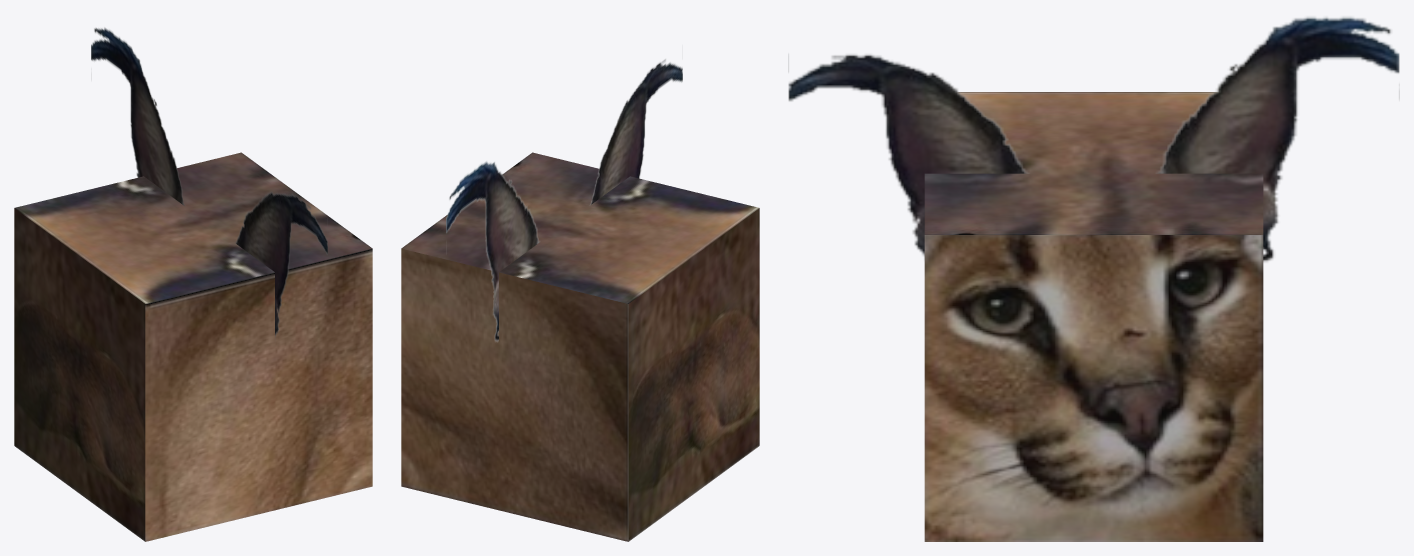
Rendered from floppa_cube.glb.
The picture shows the model from 3 angles, left to right: view 1: azimuth 30°, elevation 25°; view 2: azimuth 150°, elevation 25°; view 3: azimuth 270°, elevation 25°; orthographic projection. The views are drawn at different scales.
Visible parts, largest first — view 1: Object_2, Object_3; view 2: Object_2, Object_3; view 3: Object_2, Object_3.
Boxes of the visible parts, left/top/right/bottom form: Object_2: left=14, top=152, right=372, bottom=541; Object_3: left=91, top=27, right=327, bottom=338; Object_2: left=401, top=152, right=759, bottom=541; Object_3: left=446, top=59, right=682, bottom=342; Object_2: left=924, top=92, right=1263, bottom=541; Object_3: left=788, top=16, right=1399, bottom=262.
Bounding box in the file's own units: 2 × 3.04 × 3.61.
Materials: 2 (2 with a texture image).
